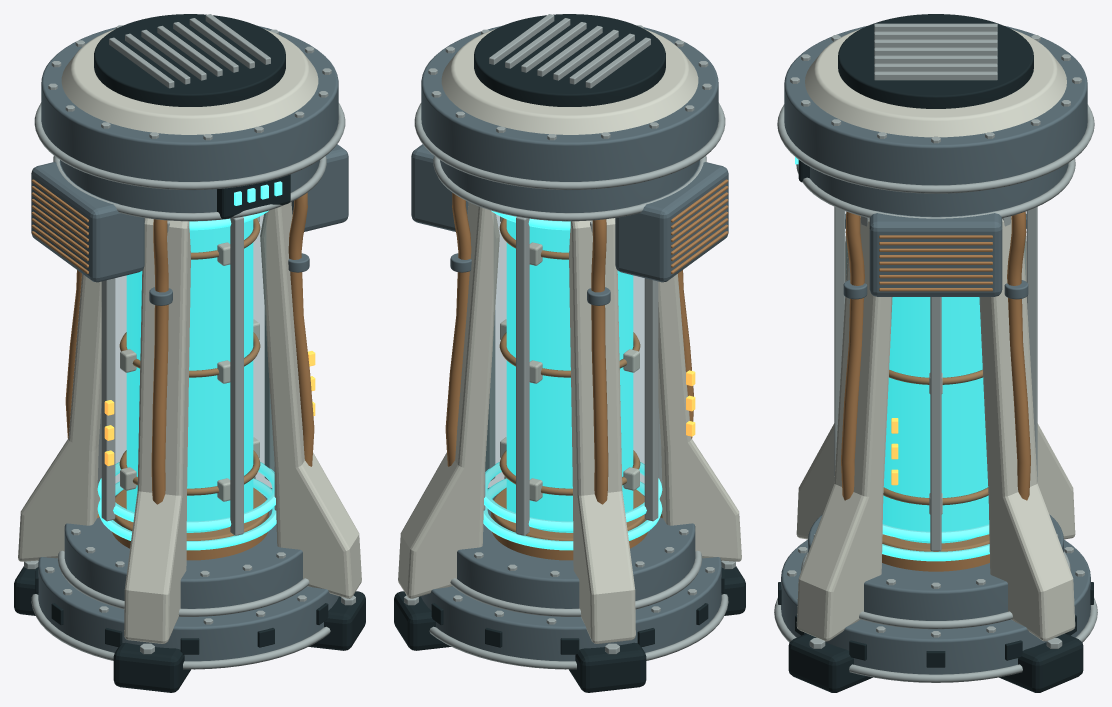
Rendered from containment-core.glb.
3 views of the same model, side by side, from view 1: azimuth 30°, elevation 25°; view 2: azimuth 150°, elevation 25°; view 3: azimuth 270°, elevation 25° (orthographic). The views are drawn at different scales.
Parts seen in each view (by area): view 1: HELION containment core / locally authored; view 2: HELION containment core / locally authored; view 3: HELION containment core / locally authored.
Part boxes in pixels (x1,y1,x2,y2): HELION containment core / locally authored: [14, 14, 365, 692]; HELION containment core / locally authored: [394, 14, 745, 692]; HELION containment core / locally authored: [774, 14, 1097, 692].
Size of the model in its own units: 1.02 by 2.04 by 1.02.
